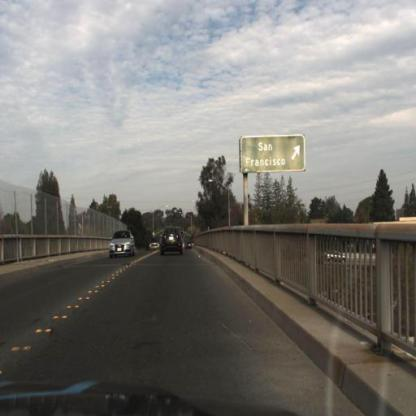car: (160, 224, 185, 258), (110, 229, 136, 260)
